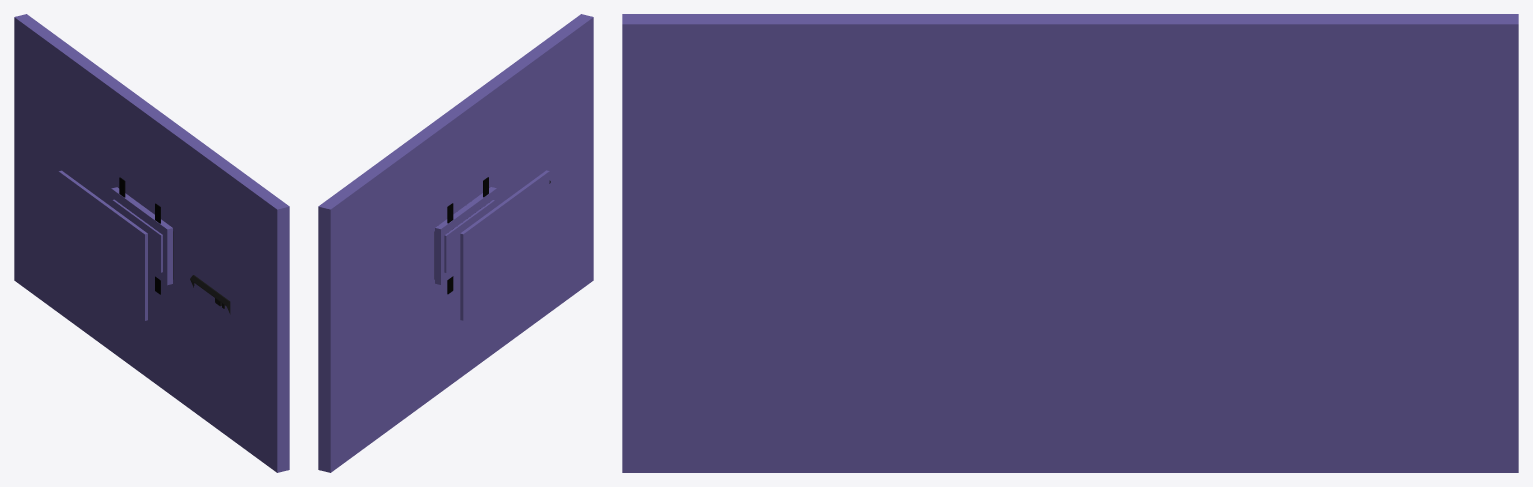
File: ecran_plat.fbx
3 renders of one model, left to right at view 1: azimuth 30°, elevation 25°; view 2: azimuth 150°, elevation 25°; view 3: azimuth 270°, elevation 25°, orthographic. The views are drawn at different scales.
Parts seen in each view (by area): view 1: UTM_Body, UTM_support_mur, UTM_support01, UTM_support02, Cover_branchements_LOD0, Barre_Support_LOD0; view 2: UTM_Body, UTM_support_mur, UTM_support01, UTM_support02, Barre_Support_LOD0; view 3: UTM_Body.
Part boxes in pixels (box(x1,y1,x2,y2)): UTM_Body: box(14, 14, 289, 472); UTM_support_mur: box(58, 170, 147, 320); UTM_support01: box(111, 187, 172, 285); UTM_support02: box(112, 199, 162, 272); Cover_branchements_LOD0: box(190, 275, 230, 314); Barre_Support_LOD0: box(119, 177, 160, 294); UTM_Body: box(318, 14, 593, 472); UTM_support_mur: box(460, 170, 549, 320); UTM_support01: box(435, 187, 496, 284); UTM_support02: box(444, 200, 494, 272); Barre_Support_LOD0: box(447, 177, 488, 294); UTM_Body: box(622, 14, 1518, 472).
Bounding box in the file's own units: 23.02 × 102 × 185.
